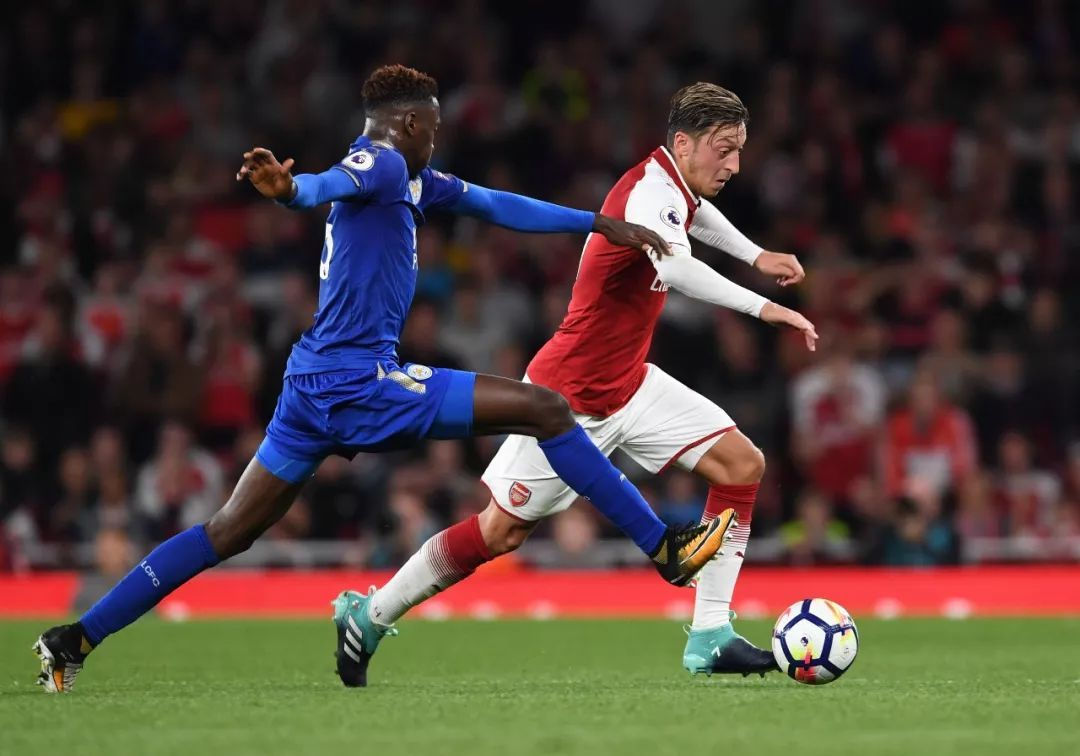ball: (770, 597, 862, 685)
